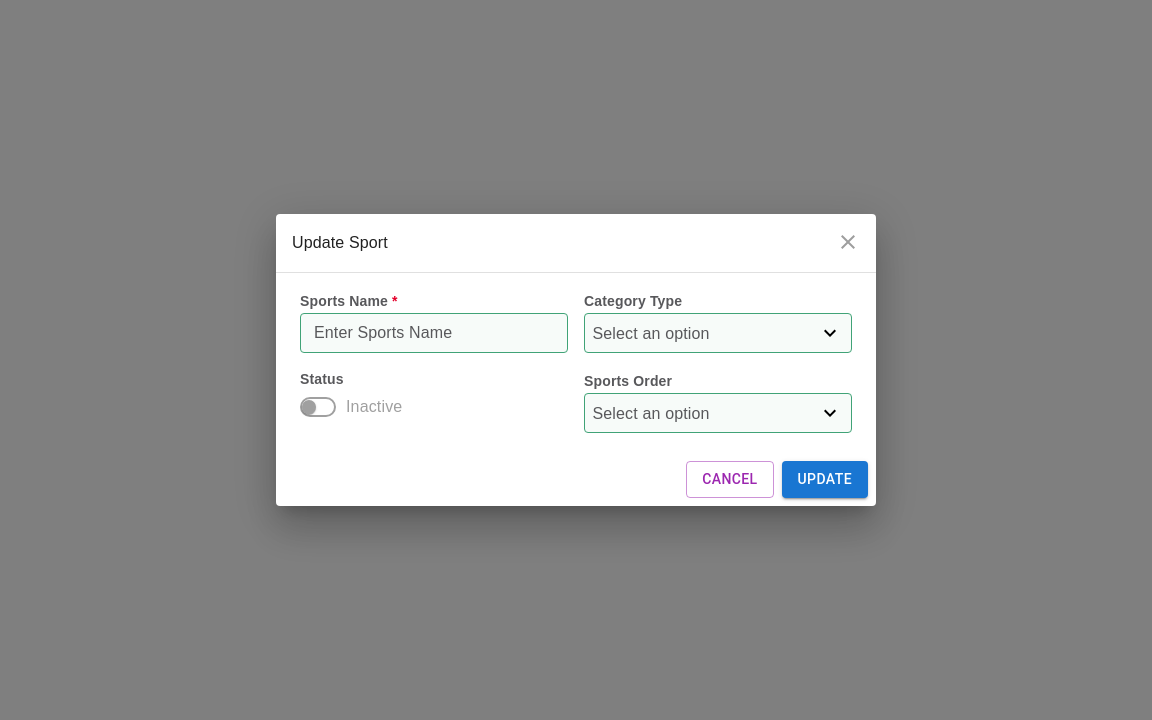
Test case: UpdateSportDialog › shows validation error if required fields are empty
Click the button "Update".
click(825, 479)  # box [782, 461, 868, 498]
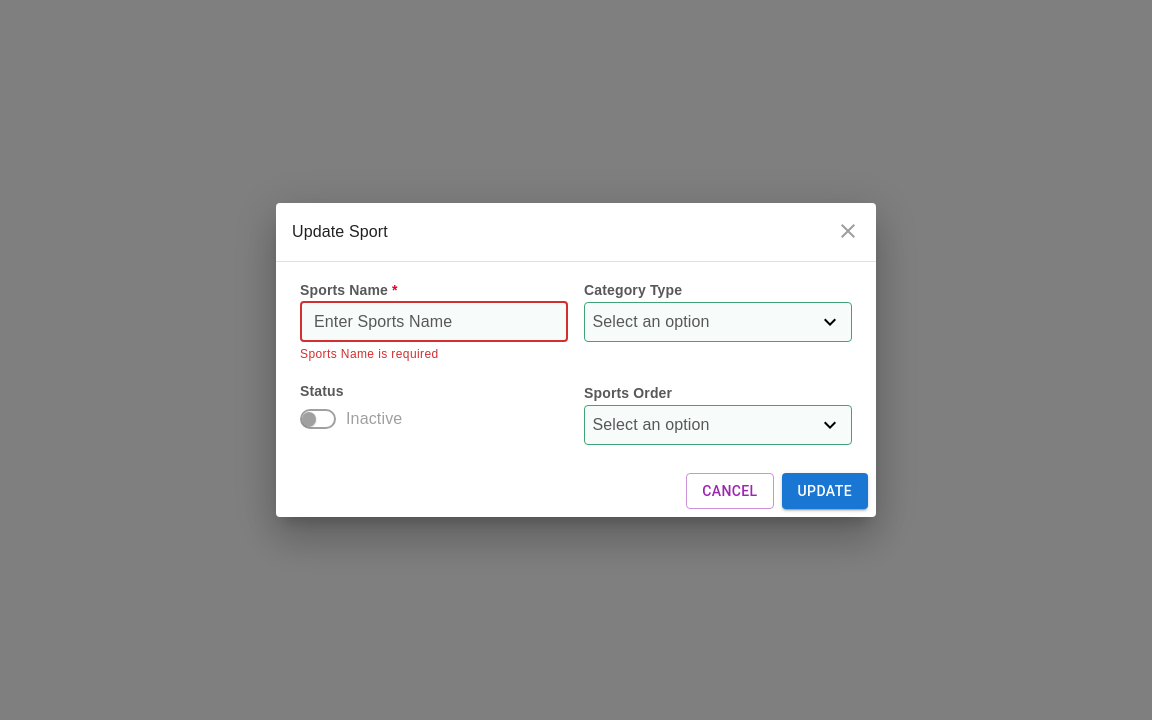
Now the text "Sports Name is required" is shown, box [300, 347, 439, 361]
